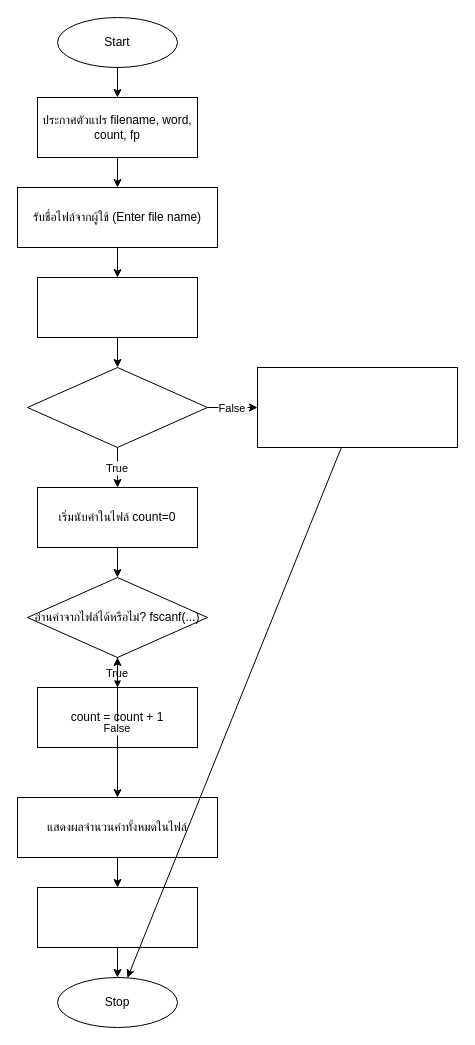
This 475x1045 diagram has some shape labels left out. Each missing label, with the centre of its shape:
"ปิดไฟล์ (fclose)" goes at point (117, 917).
"เปิดไฟล์ (fopen(filename,'r'))" goes at point (117, 307).
"เปิดไฟล์สำเร็จหรือไม่?" goes at point (117, 407).
"แสดงข้อความ Cannot open file และจบการทำงาน" goes at point (357, 407).
